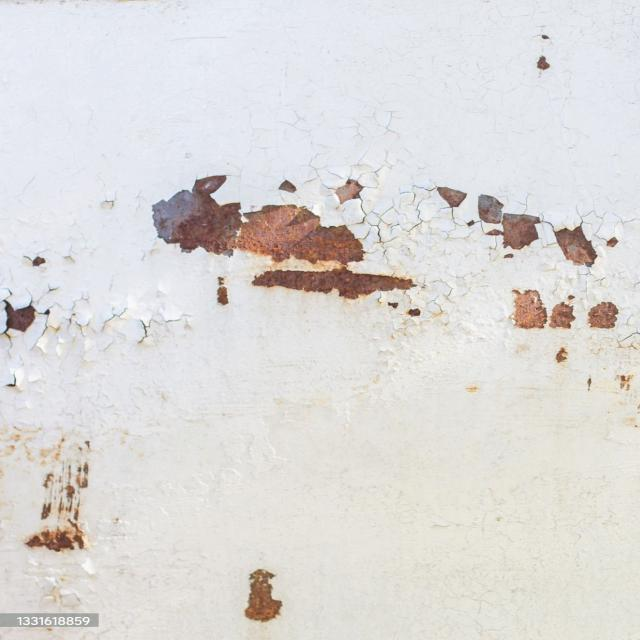Uniform Corrosion: (24, 437, 92, 553), (235, 205, 363, 264), (152, 176, 241, 253), (252, 266, 415, 299), (245, 569, 282, 622), (555, 226, 597, 266), (502, 213, 540, 249), (512, 290, 547, 329), (6, 301, 35, 332), (588, 302, 618, 329), (549, 302, 575, 328), (478, 195, 502, 223), (437, 187, 466, 207)
